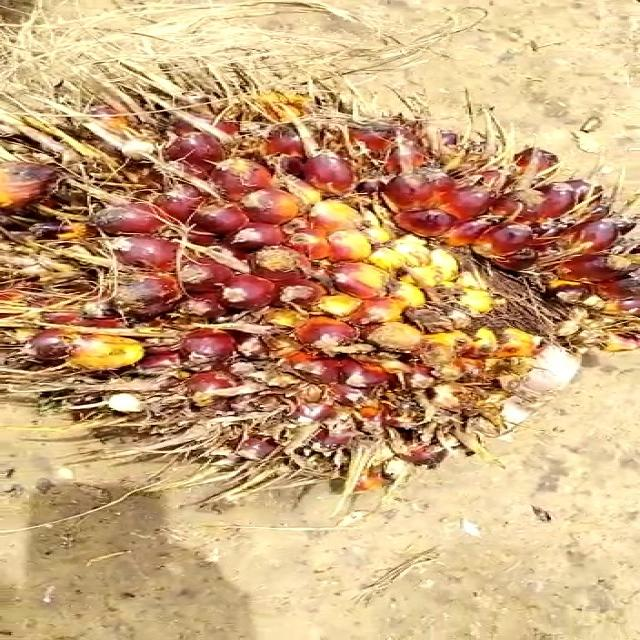palm oil: (0, 70, 640, 502)
